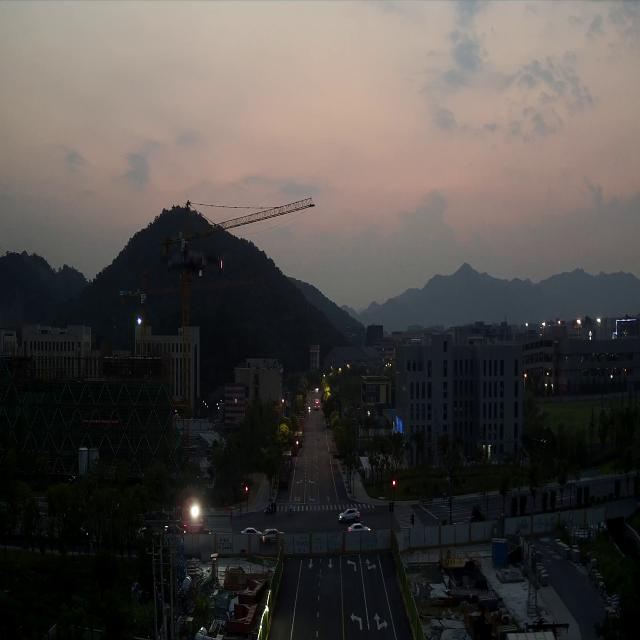UAV: (166, 246, 224, 277)
